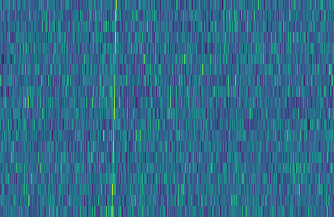signal: (105, 0, 118, 217)
